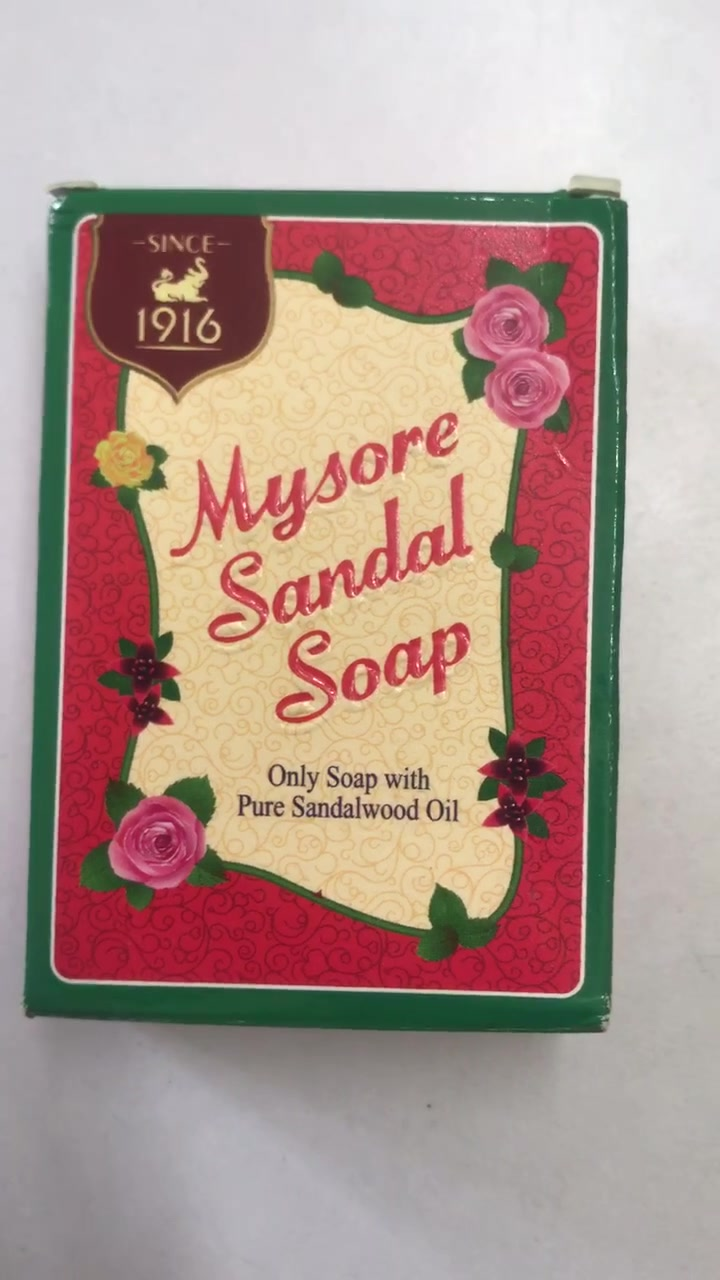mysore sandal soap: (41, 192, 602, 1024)
